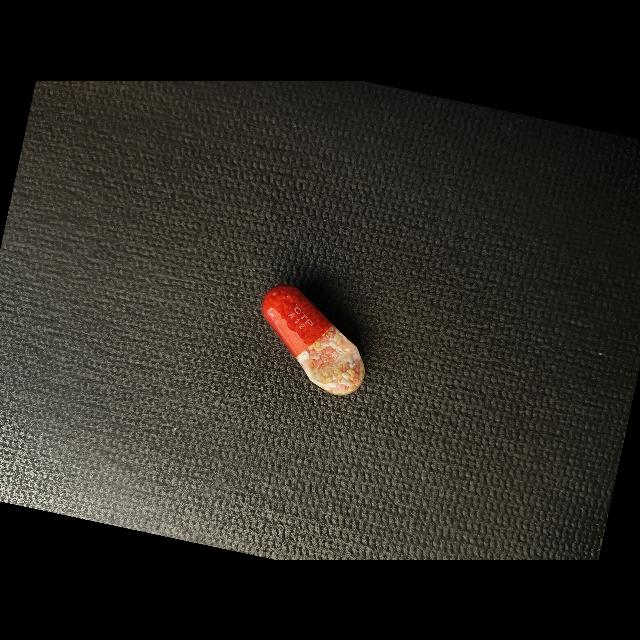Defective Capsule: (262, 284, 365, 395)
